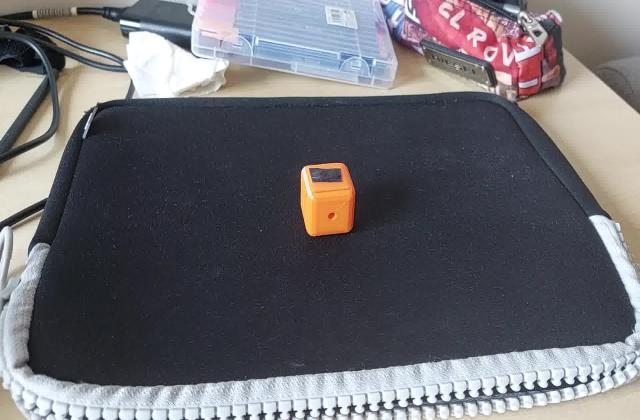cube: (296, 161, 356, 238)
